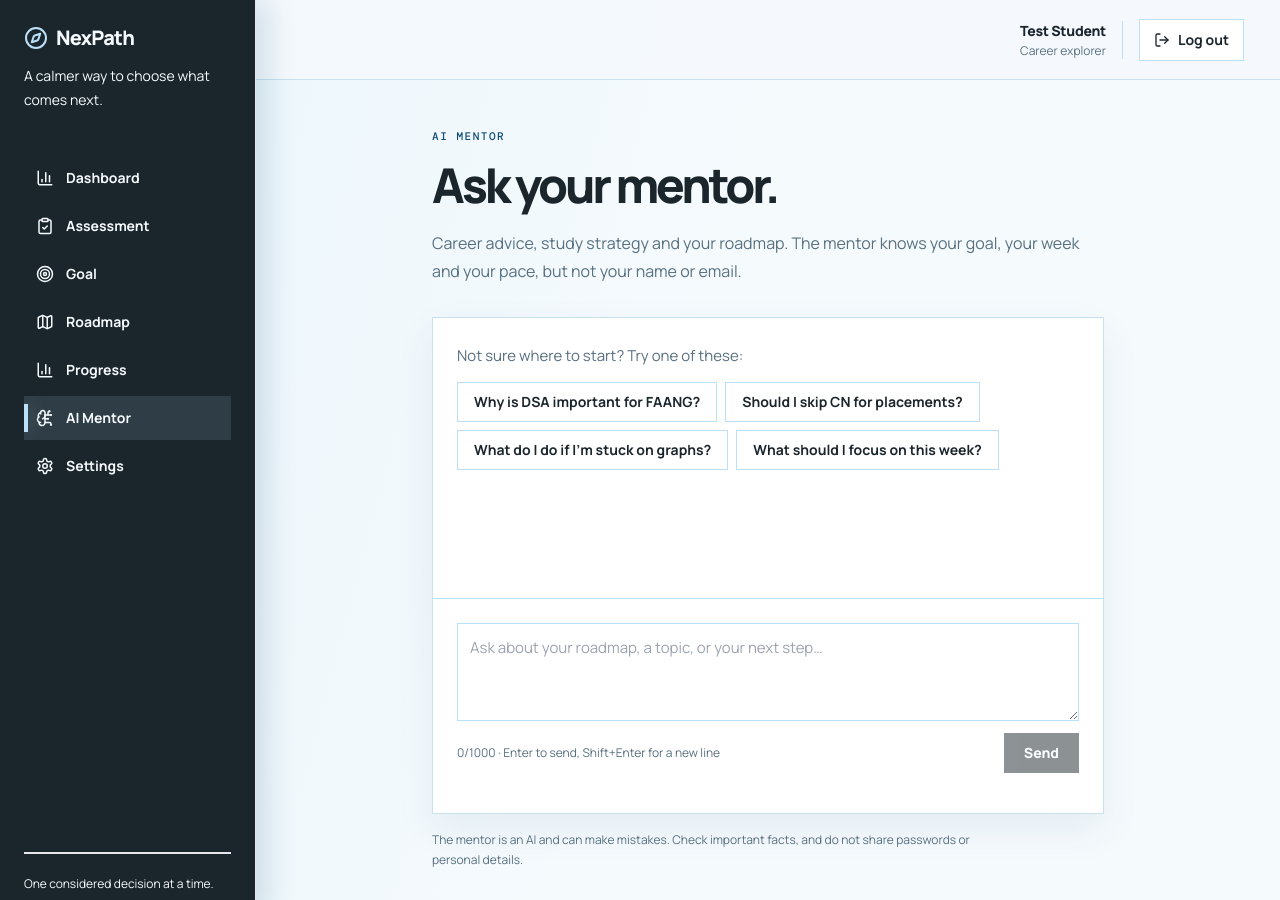
Test: mentor page › shows starter questions for a new conversation and sends one when clicked
Expected: the button "Should I skip CN for placements?" is shown, [725,382,980,422]
Click the button "Why is DSA important for FAANG?" at [587, 402], box [457,382,717,422]
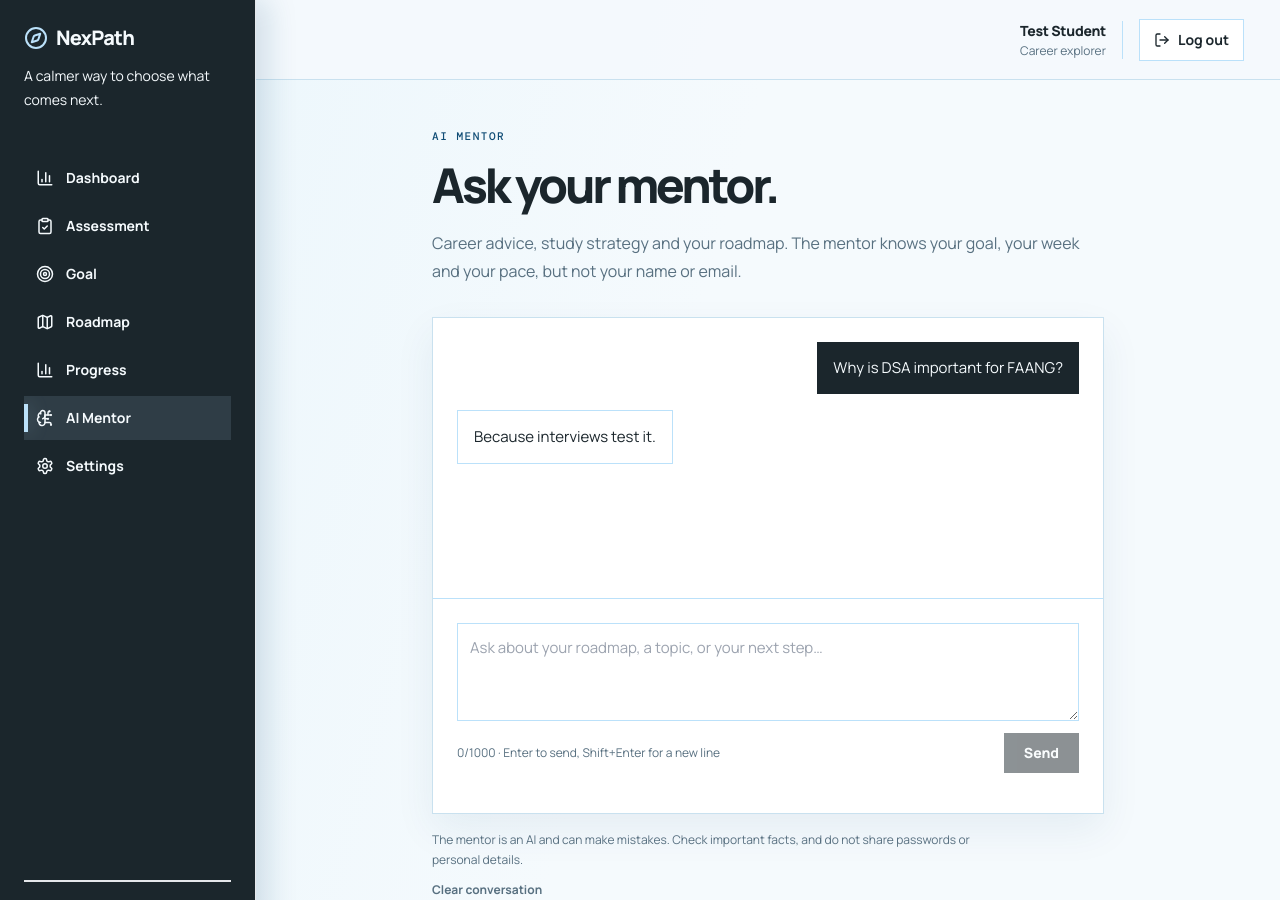
Expected: the text "Because interviews test it." is shown, [474,422,656,450]
Expected: the text "Not sure where to start" is gone
